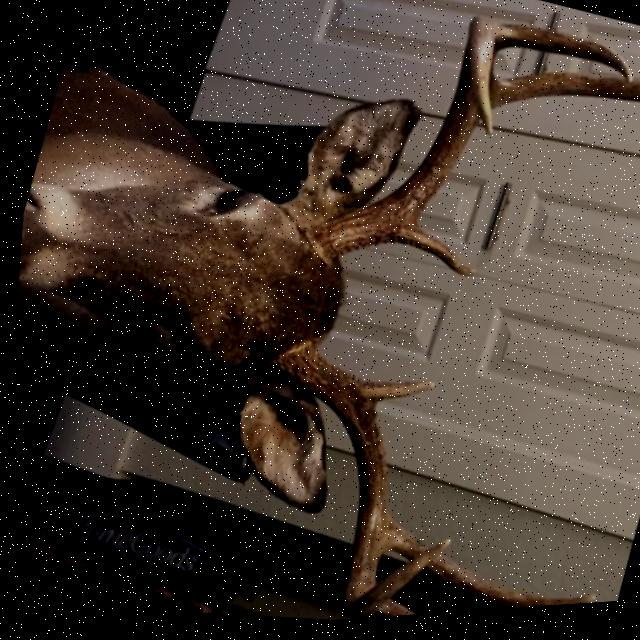L-F: (270, 343, 441, 621)
L-G1: (355, 385, 431, 405)
L-G3: (367, 605, 413, 622)
R-F: (308, 23, 498, 262)
R-G1: (384, 233, 470, 282)
R-G2: (488, 80, 640, 116)
R-G3: (493, 31, 630, 89)
